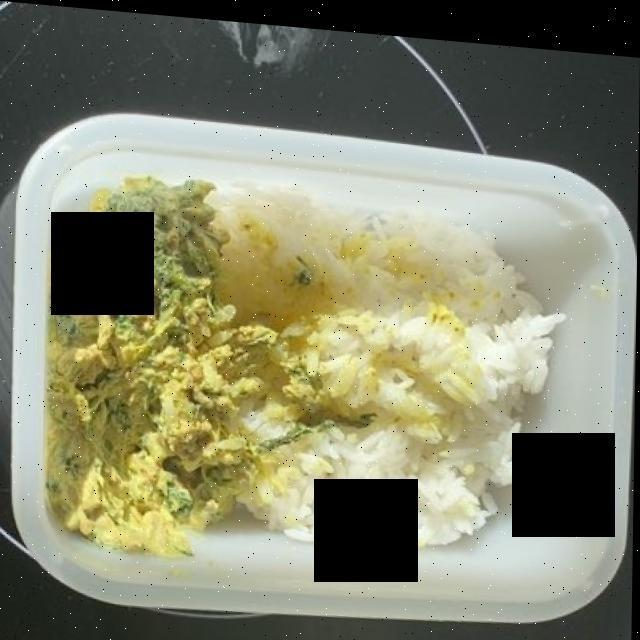curry-vegetarian: (50, 171, 277, 547)
rice: (210, 178, 562, 533)
